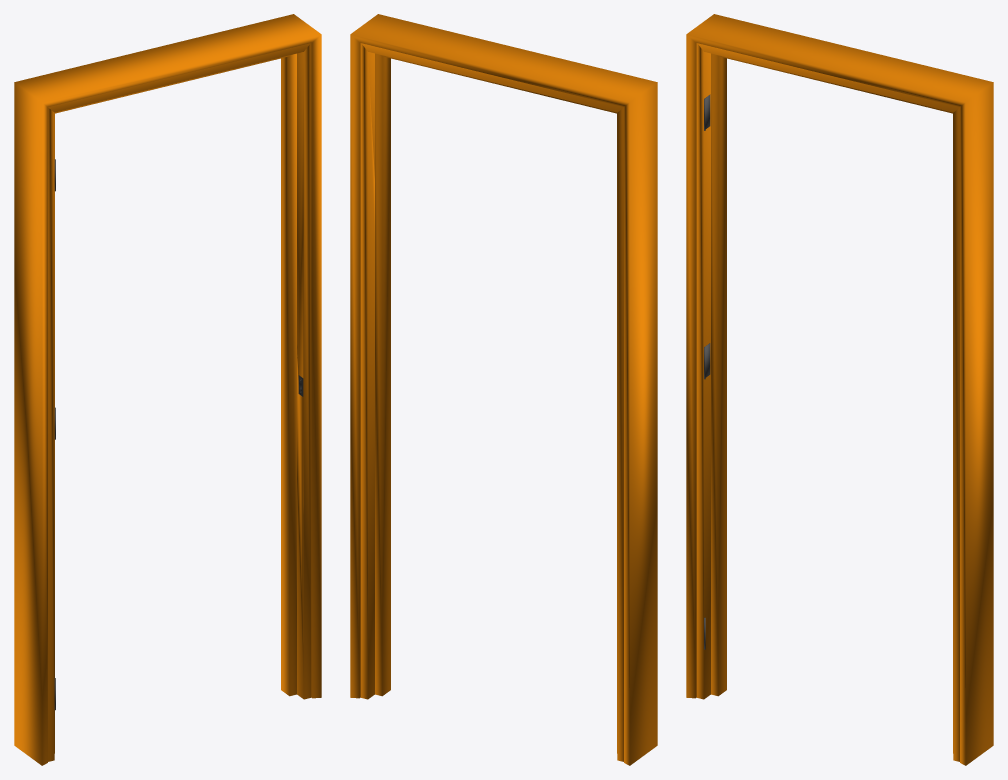
The model's file is SM_LR_DoorFrame_3.fbx.
3 views of the same model, side by side, from view 1: azimuth 30°, elevation 25°; view 2: azimuth 150°, elevation 25°; view 3: azimuth 330°, elevation 25° (orthographic).
Visible parts, largest first — view 1: SM_LR_DoorFrame_3; view 2: SM_LR_DoorFrame_3; view 3: SM_LR_DoorFrame_3.
Boxes of the visible parts, x1,y1,x2,y2 form: SM_LR_DoorFrame_3: (14, 14, 321, 765); SM_LR_DoorFrame_3: (350, 14, 657, 765); SM_LR_DoorFrame_3: (686, 14, 993, 765).
Size of the model in its own units: 93 by 211 by 16.
